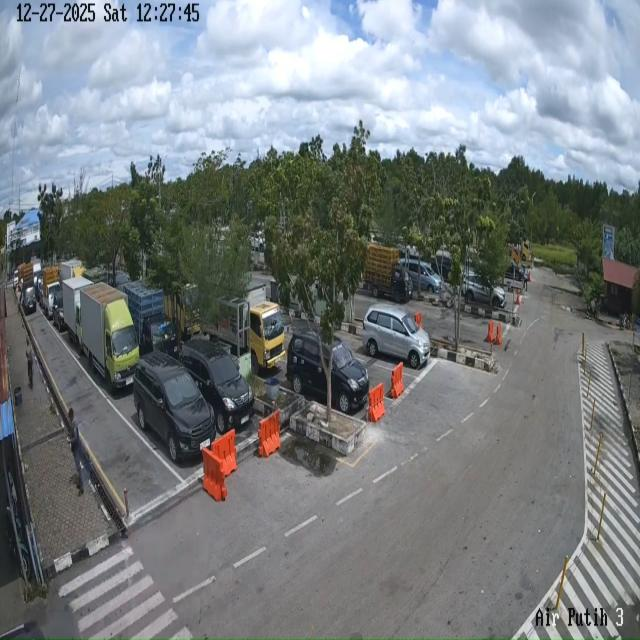Golongan IVA: (134, 352, 215, 462), (286, 328, 370, 414), (181, 338, 255, 434), (362, 304, 431, 368), (462, 271, 506, 308), (401, 258, 442, 294)
Golongan IVB: (122, 281, 178, 358), (363, 244, 412, 304), (42, 266, 60, 319)
Golongan VB: (203, 284, 286, 374), (80, 282, 139, 390), (62, 277, 92, 351)
